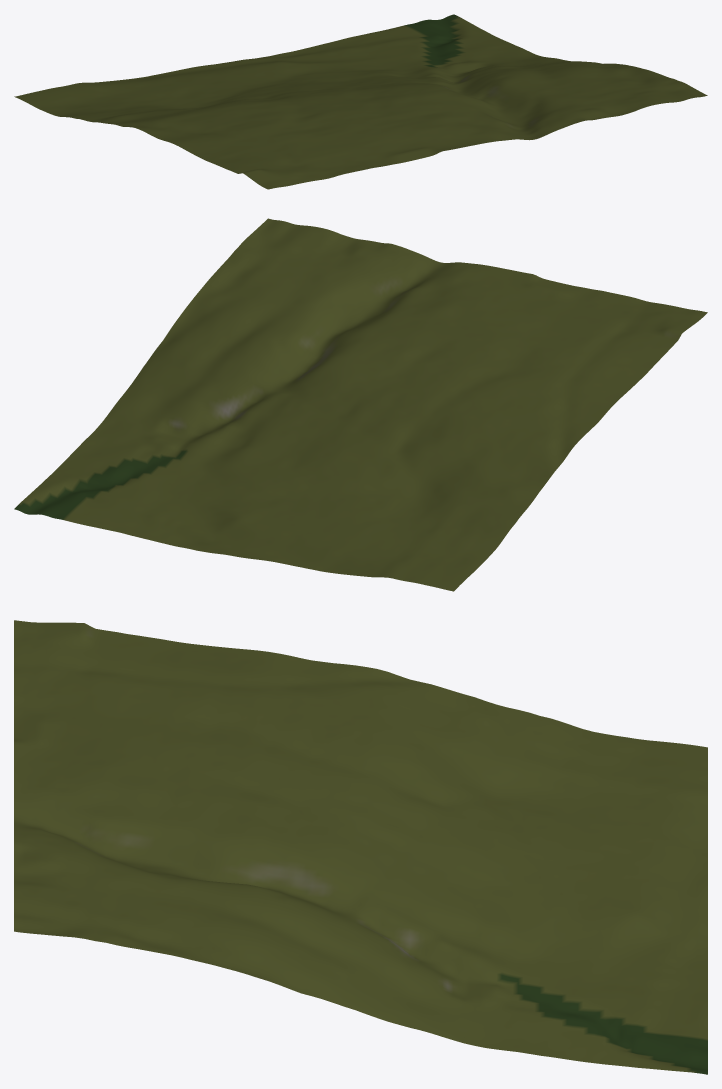
File: terrain_12_-10.glb
3 renders of one model, top to bottom at view 1: azimuth 30°, elevation 25°; view 2: azimuth 150°, elevation 25°; view 3: azimuth 270°, elevation 25°, orthographic. The views are drawn at different scales.
Parts seen in each view (by area): view 1: terrain_12_-10; view 2: terrain_12_-10; view 3: terrain_12_-10.
Part boxes in pixels (left/top/right/bottom): terrain_12_-10: left=14, top=14, right=707, bottom=189; terrain_12_-10: left=14, top=218, right=707, bottom=591; terrain_12_-10: left=14, top=620, right=707, bottom=1074.
Bounding box in the file's own units: 256 × 66.73 × 256.
